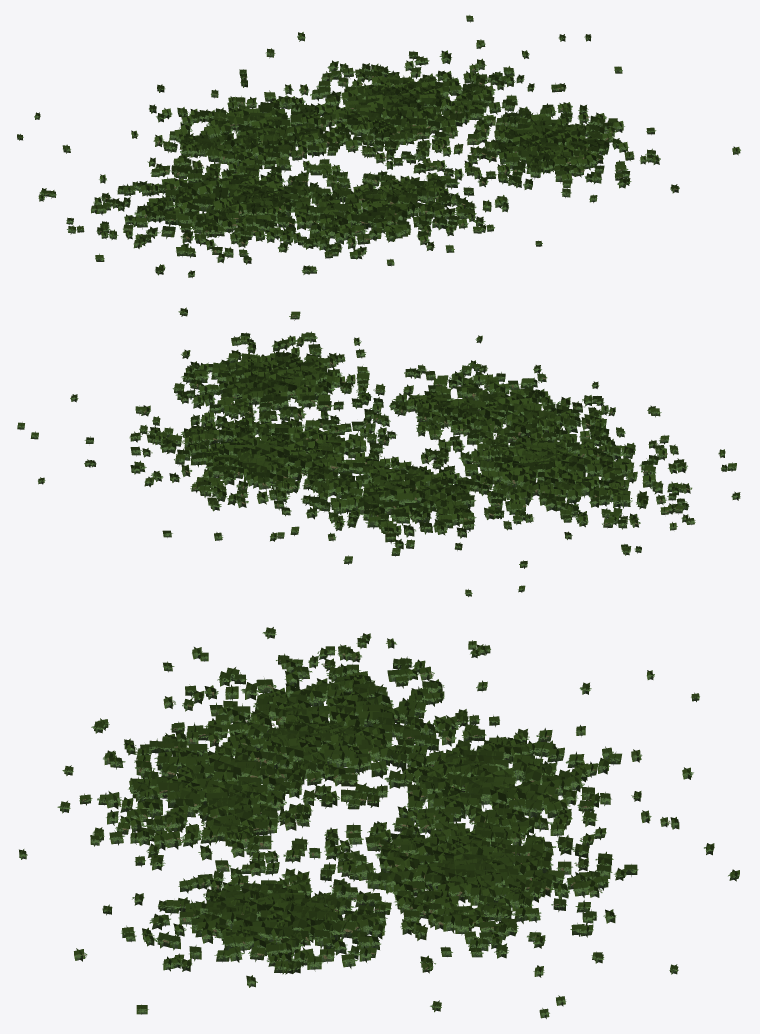
File: Ground_Moss_ShootMat_03_LOD0.fbx
3 renders of one model, top to bottom at view 1: azimuth 30°, elevation 25°; view 2: azimuth 150°, elevation 25°; view 3: azimuth 270°, elevation 25°, orthographic. The views are drawn at different scales.
Parts seen in each view (by area): view 1: Ground_Moss_ShootMat_03_LOD0_Mesh; view 2: Ground_Moss_ShootMat_03_LOD0_Mesh; view 3: Ground_Moss_ShootMat_03_LOD0_Mesh.
Part boxes in pixels (bbox=[...]): Ground_Moss_ShootMat_03_LOD0_Mesh: bbox=[17, 15, 740, 277]; Ground_Moss_ShootMat_03_LOD0_Mesh: bbox=[17, 307, 740, 596]; Ground_Moss_ShootMat_03_LOD0_Mesh: bbox=[19, 627, 739, 1018].
Bounding box in the file's own units: 122 × 2.9 × 97.03.
6 materials, 2 textured.
